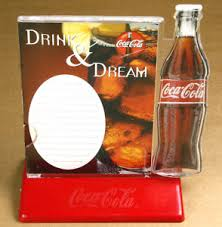coke: (153, 1, 211, 175)
